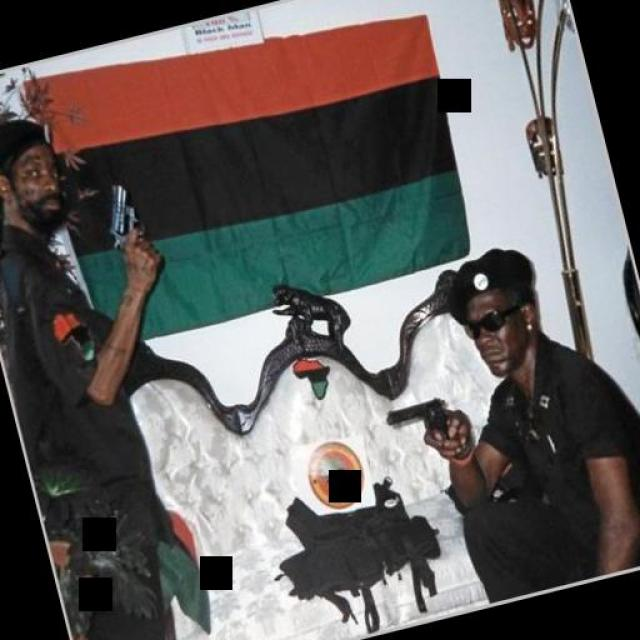gun: (92, 178, 154, 252), (382, 394, 457, 455)
